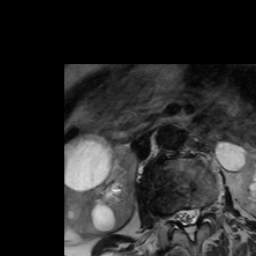CCS_normal: (185, 201, 193, 247)
LFS_stenosis: (200, 198, 210, 222)
LLS_normal: (192, 201, 200, 227)
RFS_stenosis: (167, 205, 176, 228)
RLS_normal: (176, 202, 185, 229)
